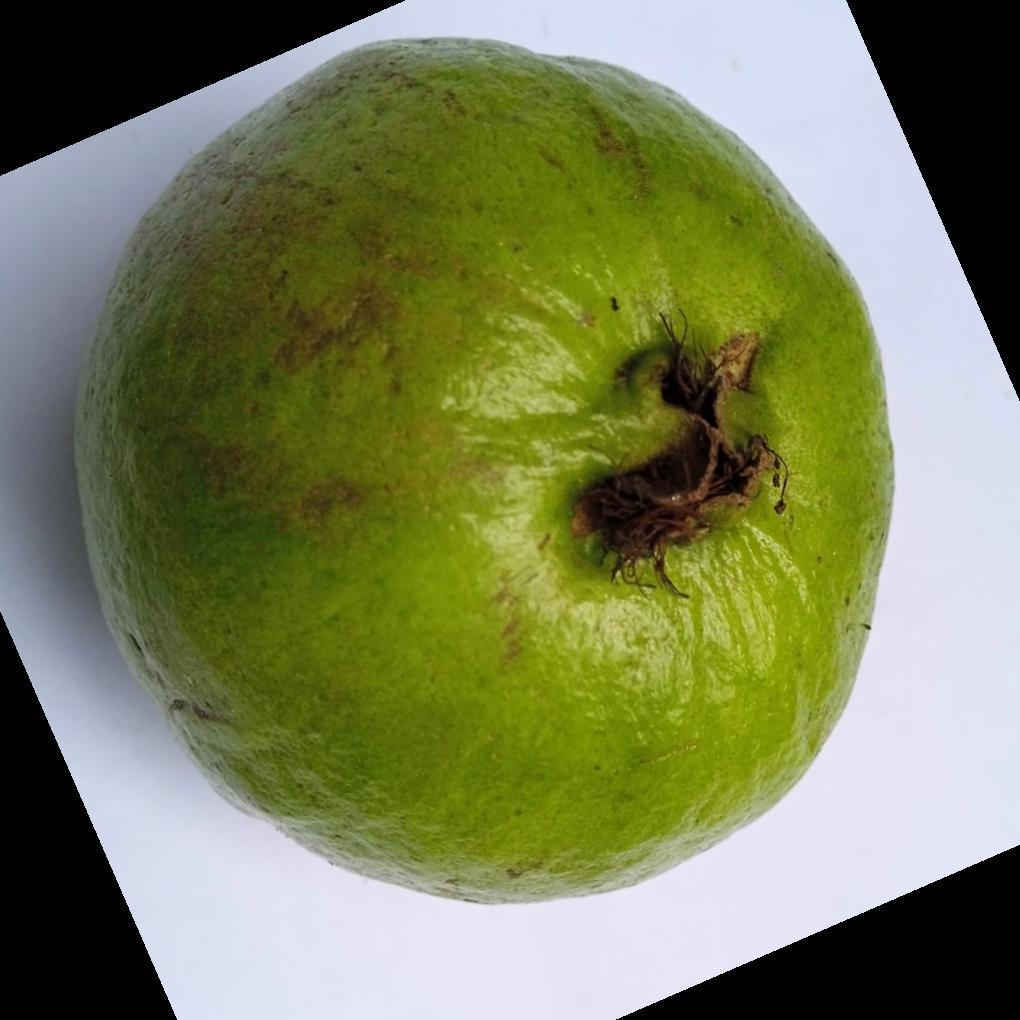FreshGuava: (70, 36, 897, 910)
